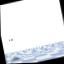drone: (9, 39, 13, 41)
